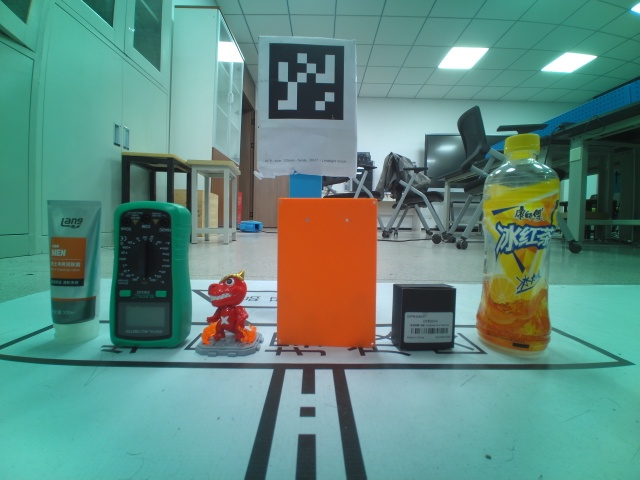banzi: (390, 282, 457, 351)
binghongcha: (196, 271, 264, 357)
dabao: (45, 199, 103, 344)
dianbiao: (476, 133, 560, 357)
hezi: (110, 200, 193, 349)
long: (274, 196, 377, 350)
